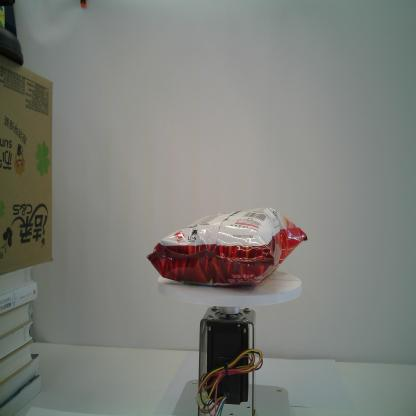Puffed Food: (146, 206, 308, 288)
